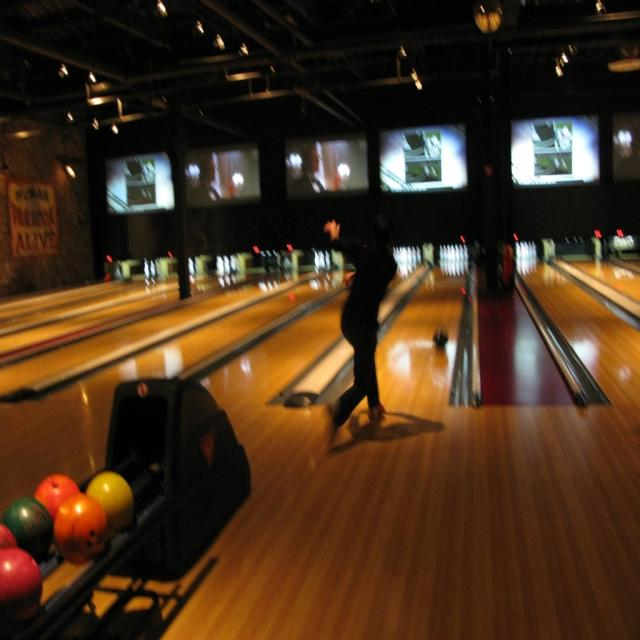Ball: (0, 470, 137, 632), (432, 326, 450, 350)
